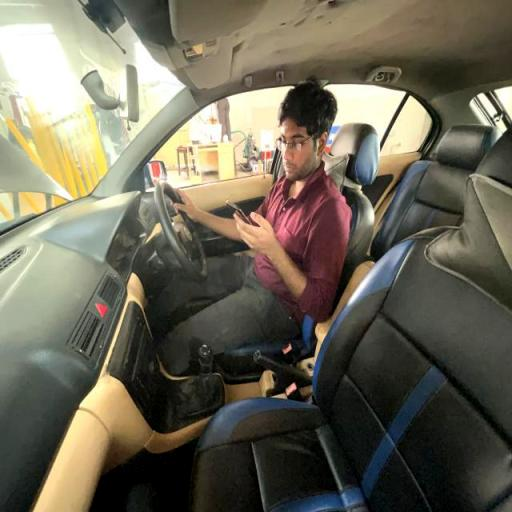Texting_on_phone: (174, 82, 350, 341)
